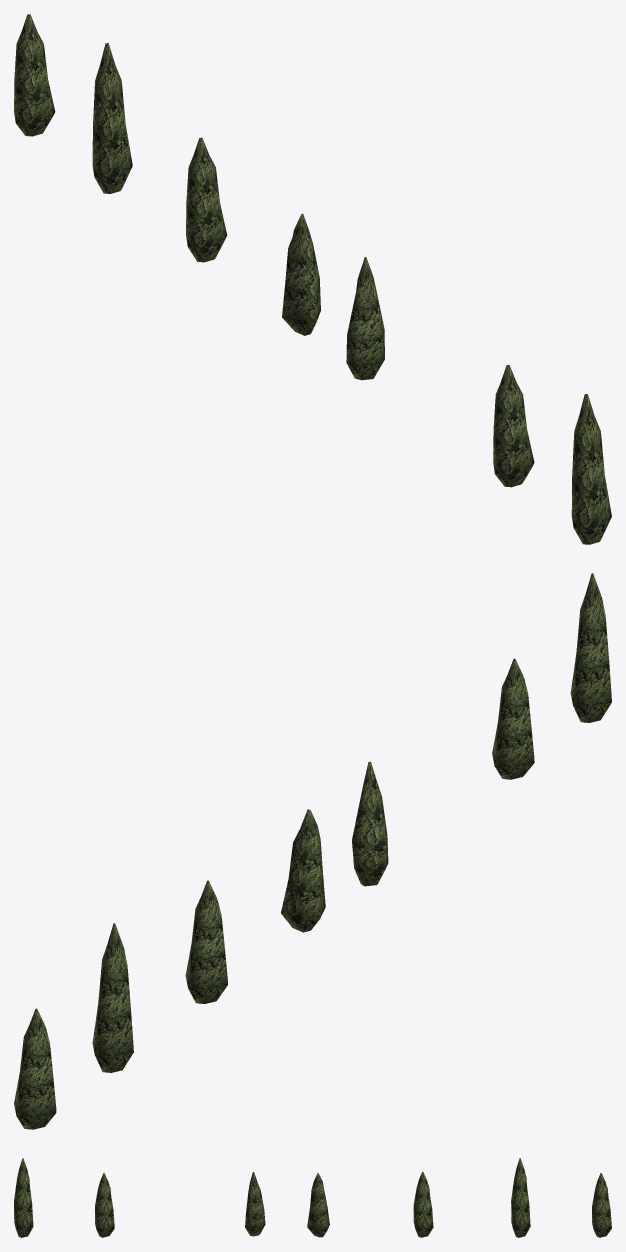
File: Cyprus_Tree_group.FBX
The picture shows the model from 3 angles, top to bottom: view 1: azimuth 30°, elevation 25°; view 2: azimuth 150°, elevation 25°; view 3: azimuth 270°, elevation 25°; orthographic projection. The views are drawn at different scales.
Visible parts, largest first — view 1: Cyprus_Tree_group; view 2: Cyprus_Tree_group; view 3: Cyprus_Tree_group.
Part boxes in pixels (x1,y1,x2,y2): Cyprus_Tree_group: (14, 14, 611, 544); Cyprus_Tree_group: (14, 573, 611, 1129); Cyprus_Tree_group: (14, 1158, 611, 1237).
Size of the model in its own units: 1.91 by 6.53 by 46.3.
